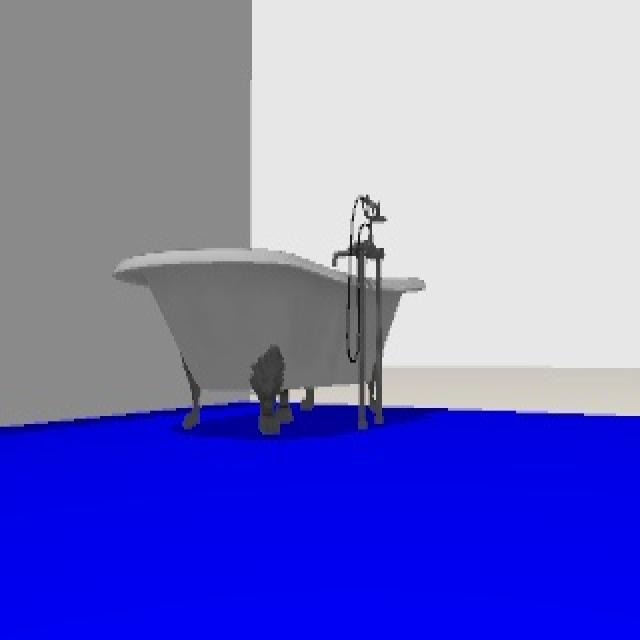bathtub: (117, 192, 429, 429)
